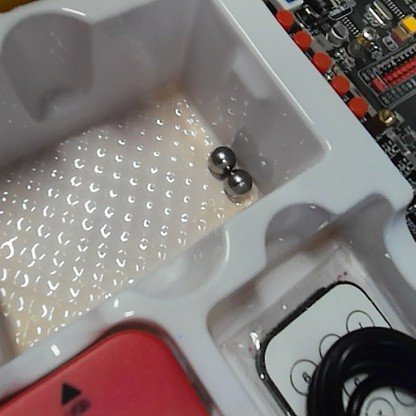ironball: (206, 143, 236, 175), (223, 170, 255, 198)
